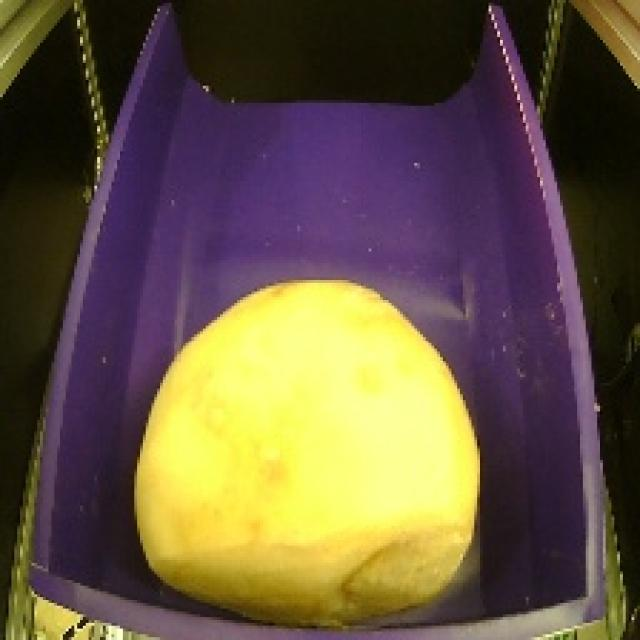full_potato: (117, 271, 498, 627)
